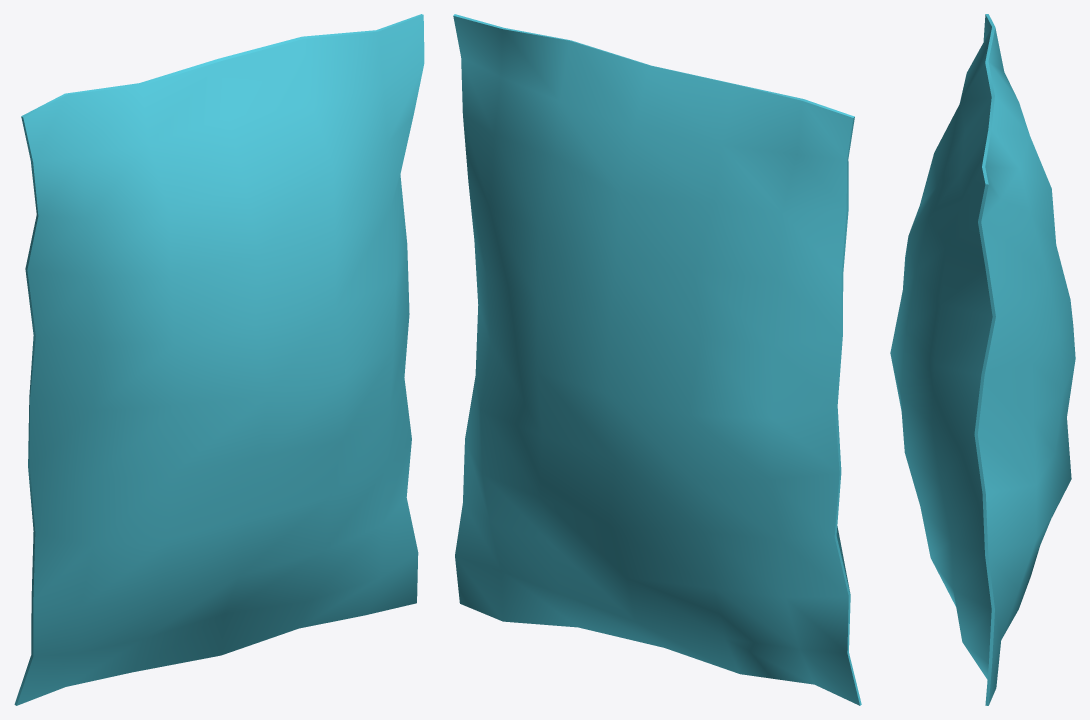
Rendered from SacchettoPatatineCampagnolo.fbx.
3 renders of one model, left to right at view 1: azimuth 30°, elevation 25°; view 2: azimuth 150°, elevation 25°; view 3: azimuth 270°, elevation 25°, orthographic. The views are drawn at different scales.
Visible parts, largest first — view 1: SacchettoChips.001; view 2: SacchettoChips.001; view 3: SacchettoChips.001.
Part boxes in pixels (bbox=[...]): SacchettoChips.001: bbox=[14, 14, 424, 705]; SacchettoChips.001: bbox=[453, 14, 861, 705]; SacchettoChips.001: bbox=[890, 14, 1075, 705].
Size of the model in its own units: 187 by 261 by 82.28.
